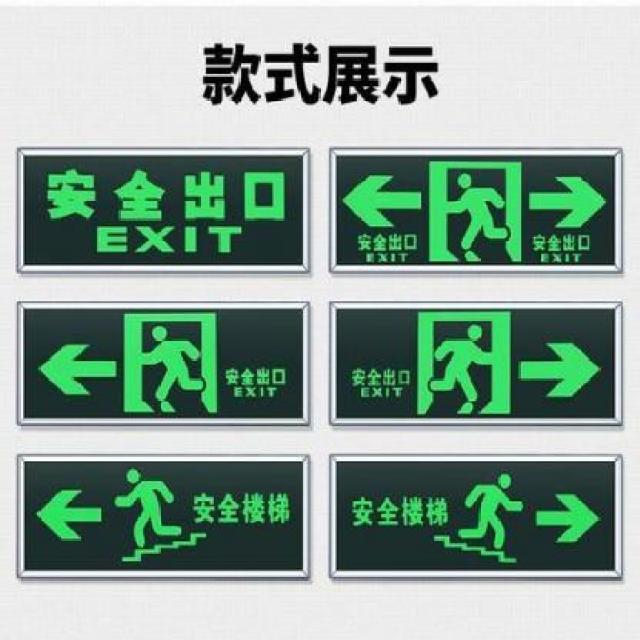exit_sign: (328, 438, 630, 586), (318, 291, 630, 433), (11, 446, 308, 586), (6, 298, 310, 429), (17, 137, 305, 275), (330, 142, 626, 272)
